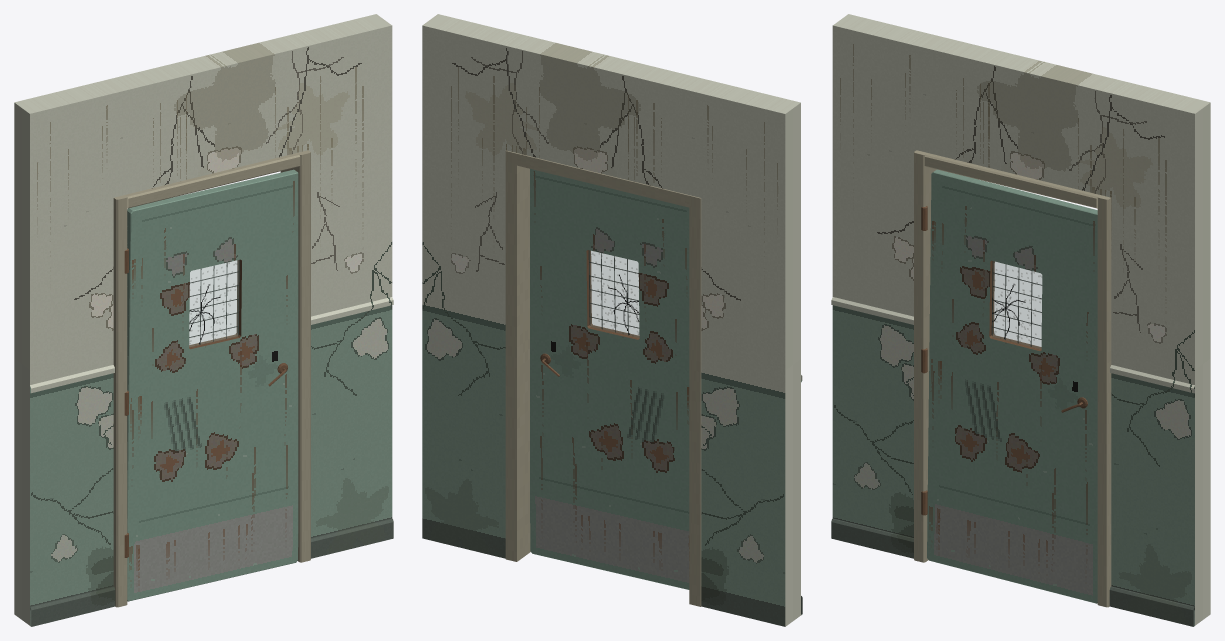
File: door_4a.glb
3 views of the same model, side by side, from view 1: azimuth 30°, elevation 25°; view 2: azimuth 150°, elevation 25°; view 3: azimuth 330°, elevation 25° (orthographic).
Parts seen in each view (by area): view 1: leaf_faces, wall_left, wall_right, wall_lintel, frame_left, frame_right, door_glass, frame_top, leaf_edge, leaf_window_rim; view 2: leaf_faces, wall_left, wall_right, wall_lintel, frame_right, frame_left, door_glass, frame_top, leaf_window_rim; view 3: leaf_faces, wall_right, wall_left, wall_lintel, frame_right, frame_left, door_glass, frame_top, leaf_edge, leaf_window_rim.
Boxes of the visible parts, x1,y1,x2,y2 form: leaf_faces: (127, 173, 298, 600); wall_left: (14, 81, 115, 626); wall_right: (291, 14, 393, 558); wall_lintel: (100, 35, 305, 196); frame_left: (113, 195, 127, 607); frame_right: (280, 150, 310, 562); door_glass: (189, 260, 239, 346); frame_top: (125, 153, 300, 208); leaf_edge: (127, 169, 298, 601); leaf_window_rim: (189, 259, 241, 349); leaf_faces: (530, 169, 689, 589); wall_left: (699, 81, 802, 626); wall_right: (422, 14, 523, 558); wall_lintel: (508, 35, 714, 197); frame_right: (505, 150, 530, 561); frame_left: (689, 195, 701, 606); door_glass: (588, 250, 639, 337); frame_top: (517, 153, 689, 207); leaf_window_rim: (586, 250, 639, 339); leaf_faces: (927, 173, 1097, 602); wall_right: (1109, 81, 1210, 626); wall_left: (831, 14, 933, 558); wall_lintel: (919, 35, 1124, 196); frame_right: (1097, 195, 1111, 607); frame_left: (914, 150, 936, 562); door_glass: (991, 261, 1042, 348); frame_top: (924, 153, 1099, 208); leaf_edge: (927, 169, 1097, 603); leaf_window_rim: (989, 260, 1041, 350).
Size of the model in its own units: 2 by 2.71 by 0.2092.
2 materials, 2 textured.
